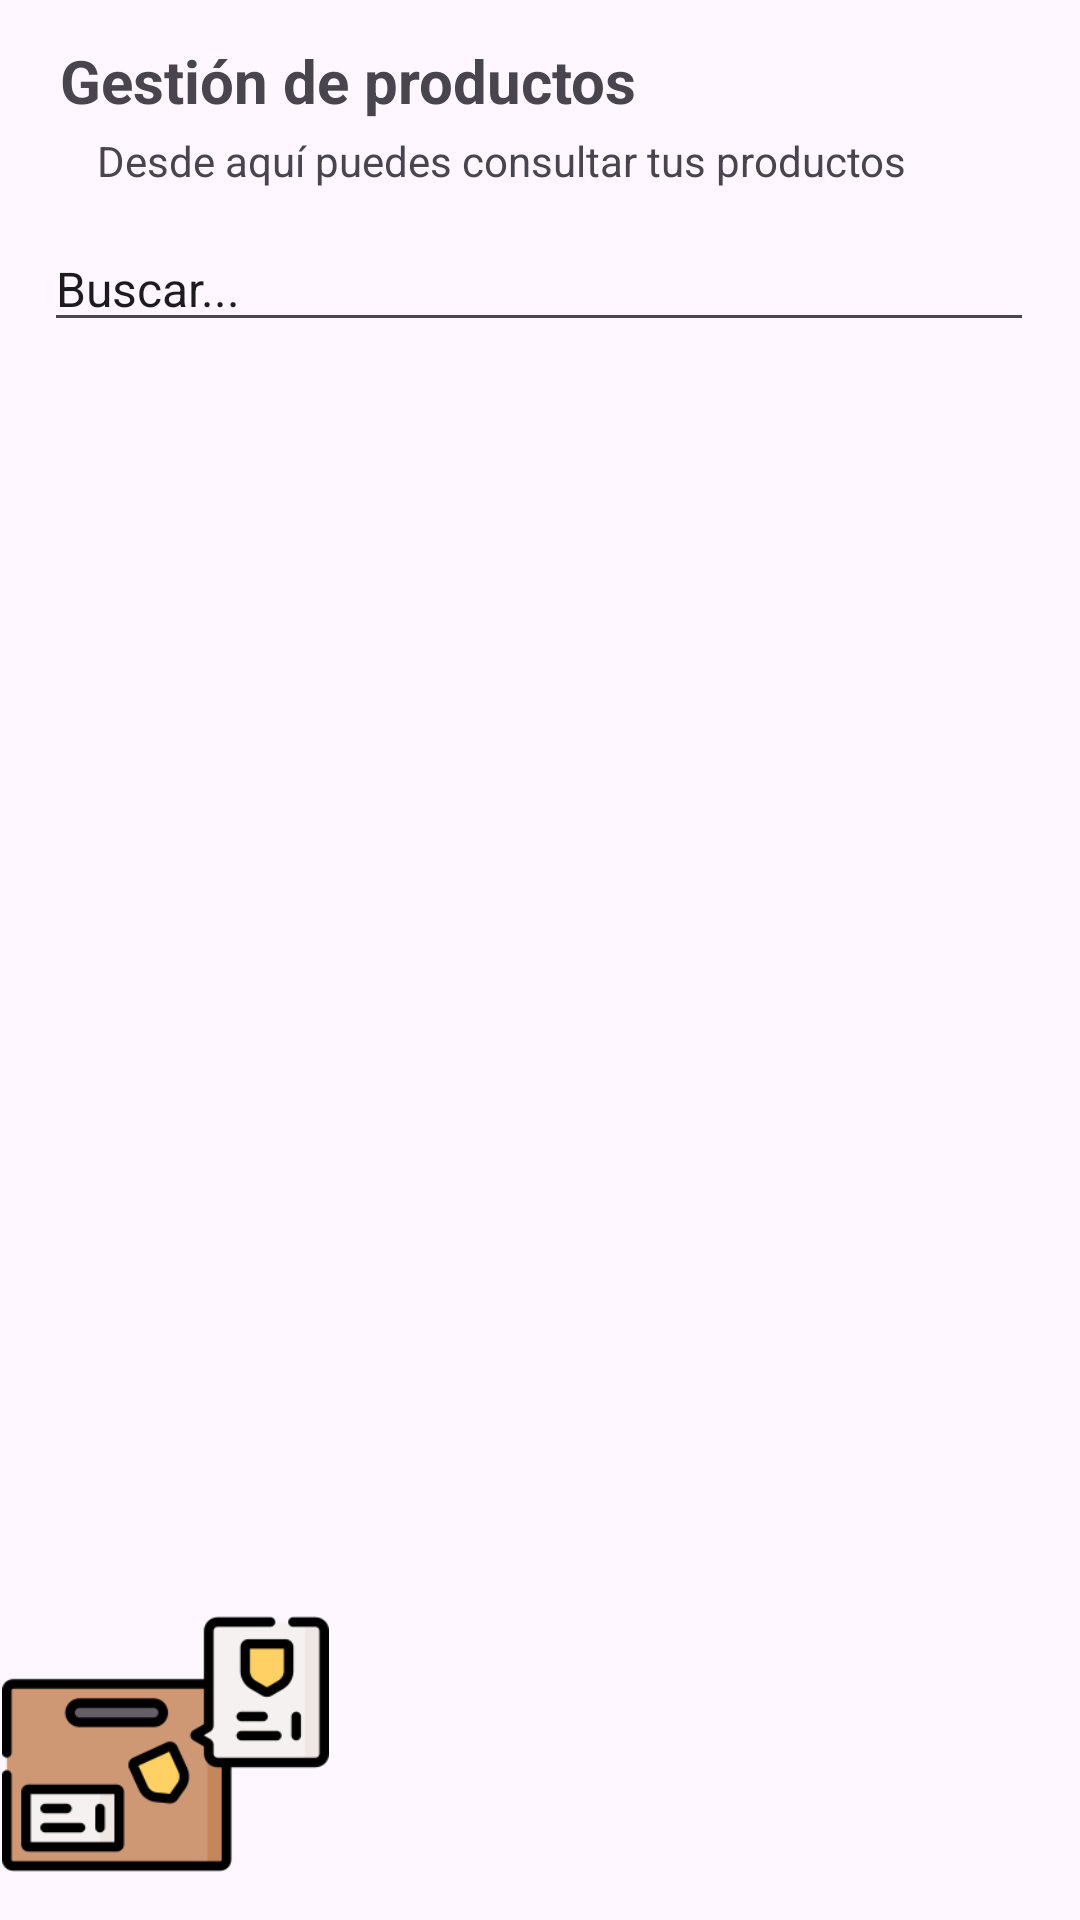

Named icons in this screenshot (1080 x 1920) and their bounding boxes, box(x1, y1, x2, y2):
etiqueta: box(2, 1616, 329, 1872)
